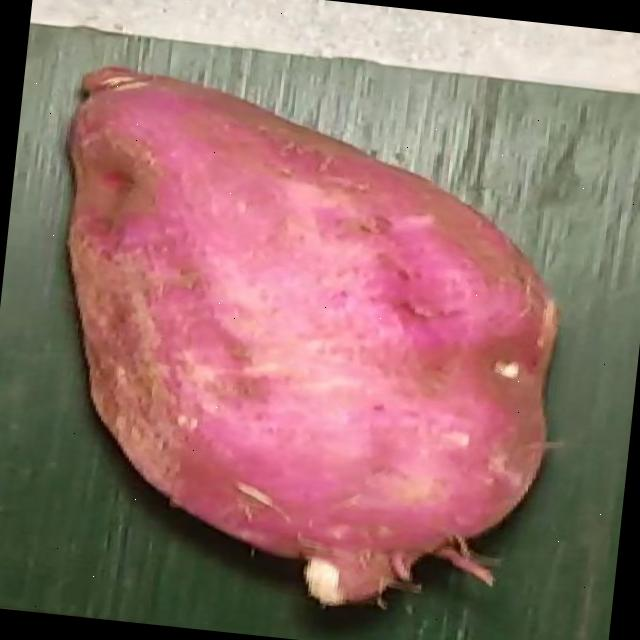Sweet Potato: (66, 64, 563, 605)
